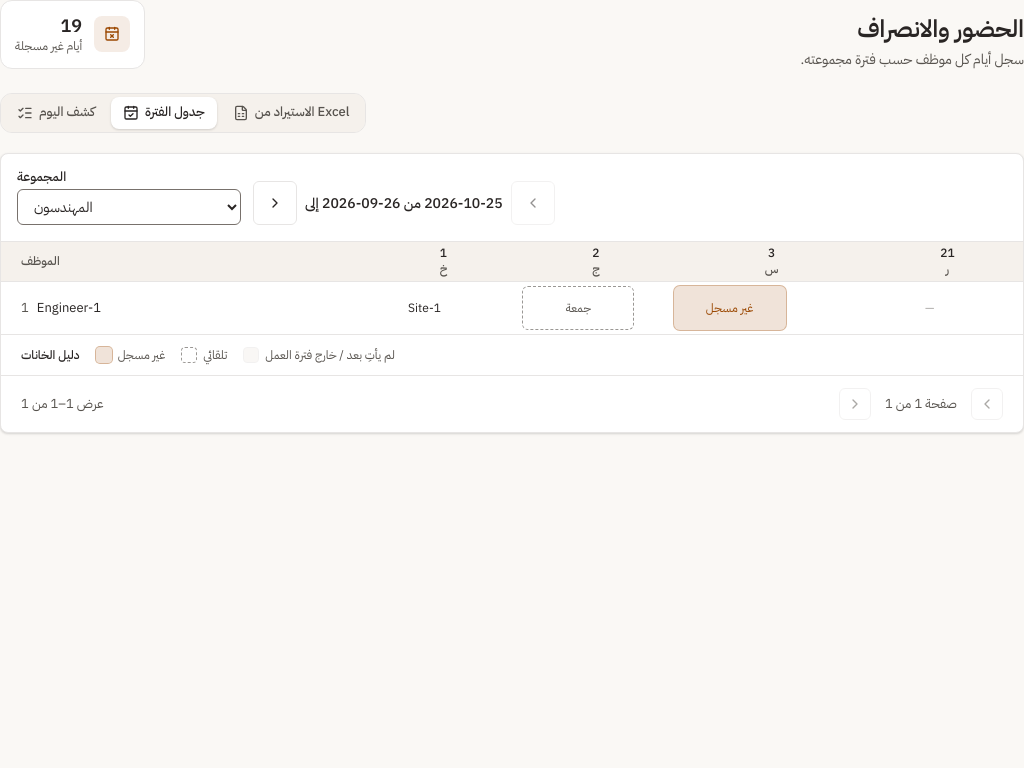
Test: clicking a day opens its editor
Step 1. Click the button with aria-label "Engineer-1 2026-10-03: غير مسجل" → click(730, 308), box [674, 286, 786, 330]
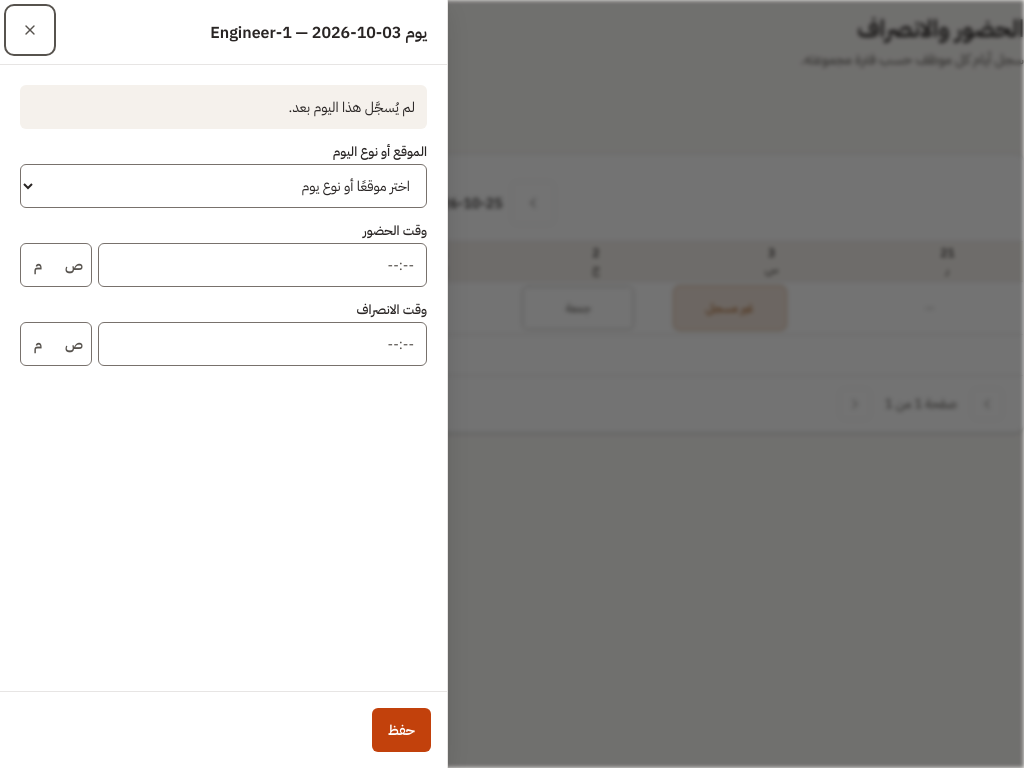
Check: the dialog "يوم 2026-10-03 — Engineer-1" is shown, box [0, 0, 448, 767]
Check: the field labelled "وقت الحضور" is enabled, box [98, 243, 427, 287]
